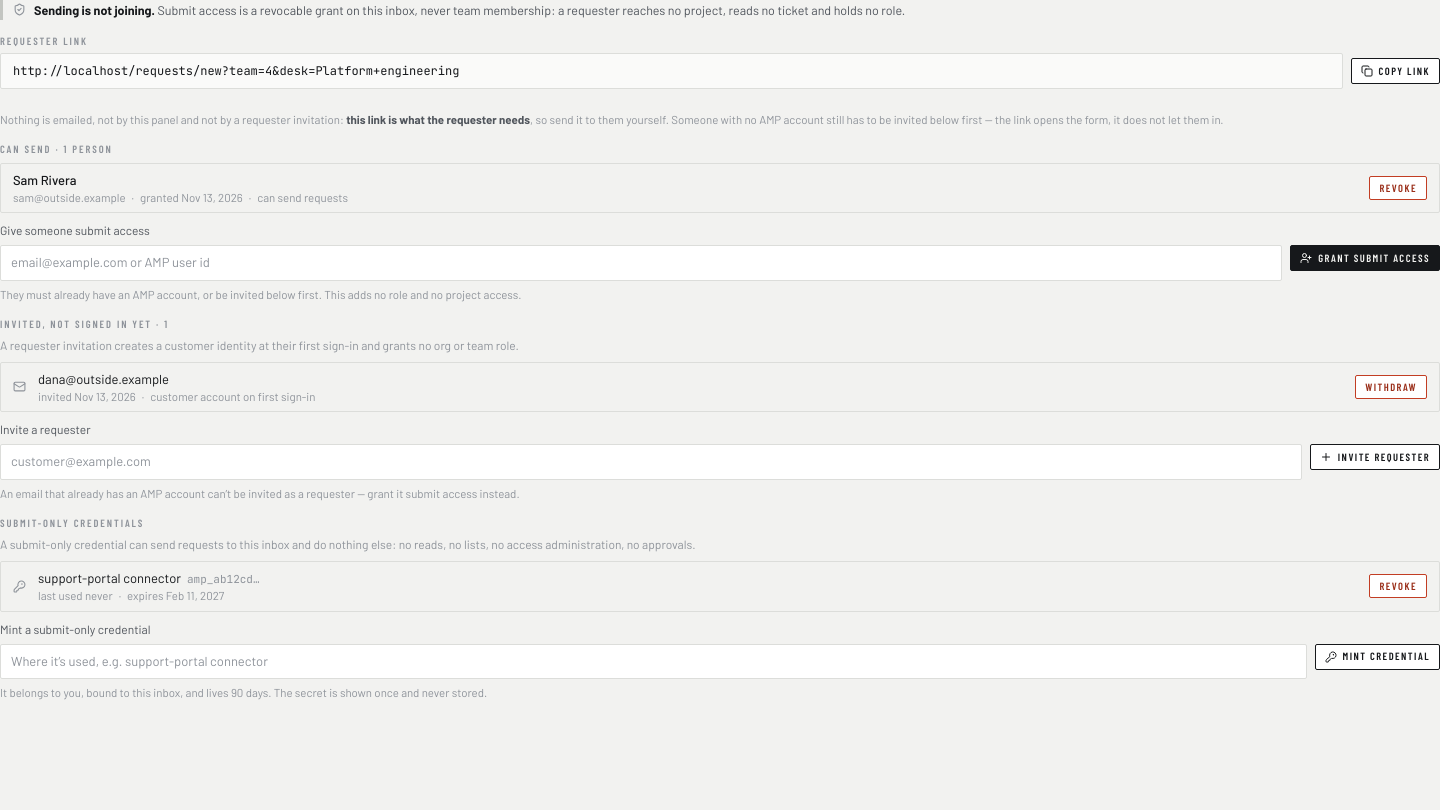
the secret is shown once and never retained › mints a submit-scoped credential for this inbox and shows the secret once
Type "portal connector" into the field labelled "Mint a submit-only credential". click: (653, 661)
box: [0, 644, 1306, 679]
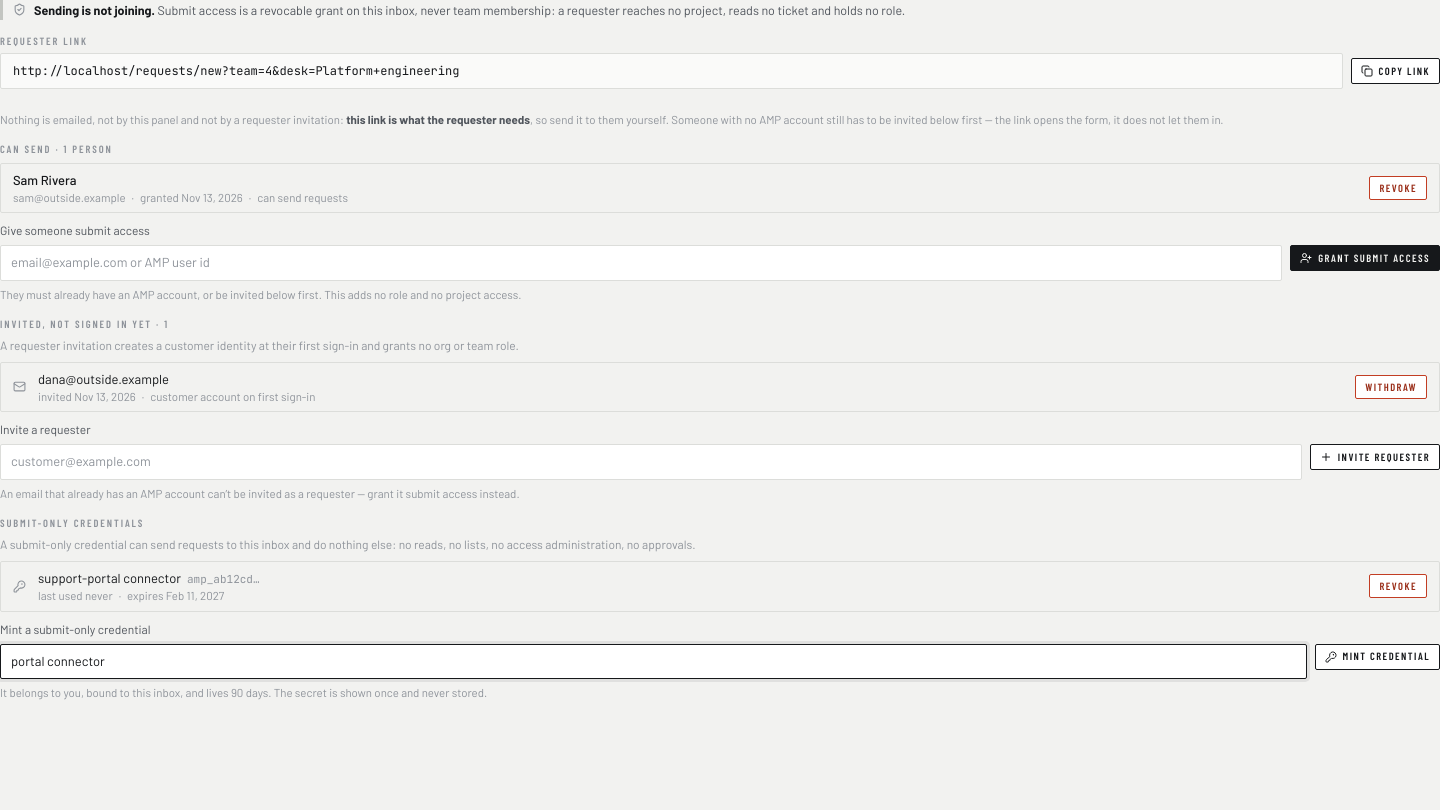
Click the button "Mint credential". click: (1377, 657)
box: [1314, 644, 1439, 670]
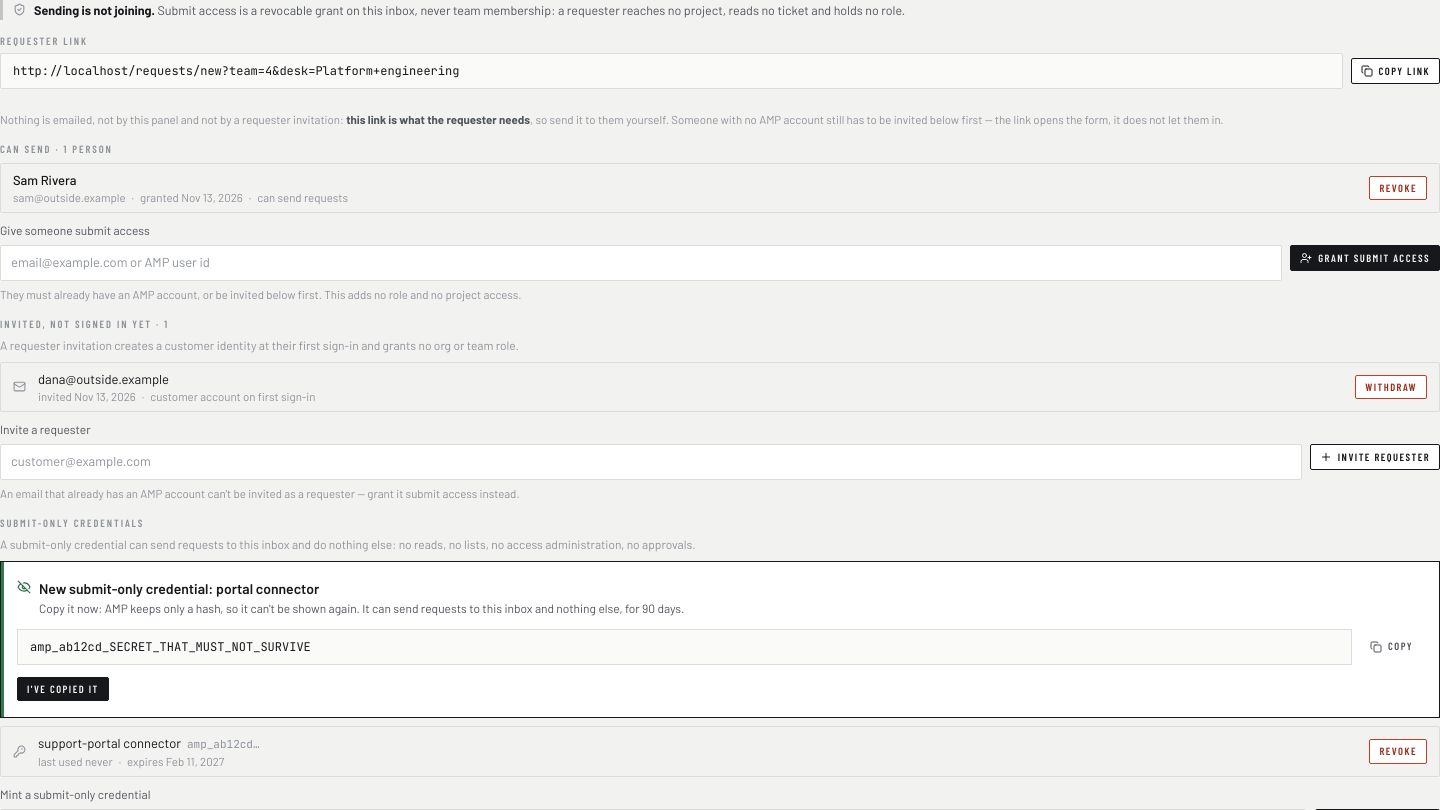
Check: the text "amp_ab12cd_SECRET_THAT_MUST_NOT_SURVIVE" is shown, box [17, 628, 1352, 664]
Check: the text "AMP keeps only a hash, so it can't be shown again" is shown, box [39, 600, 684, 614]
